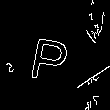P_N: (32, 27, 78, 83)
